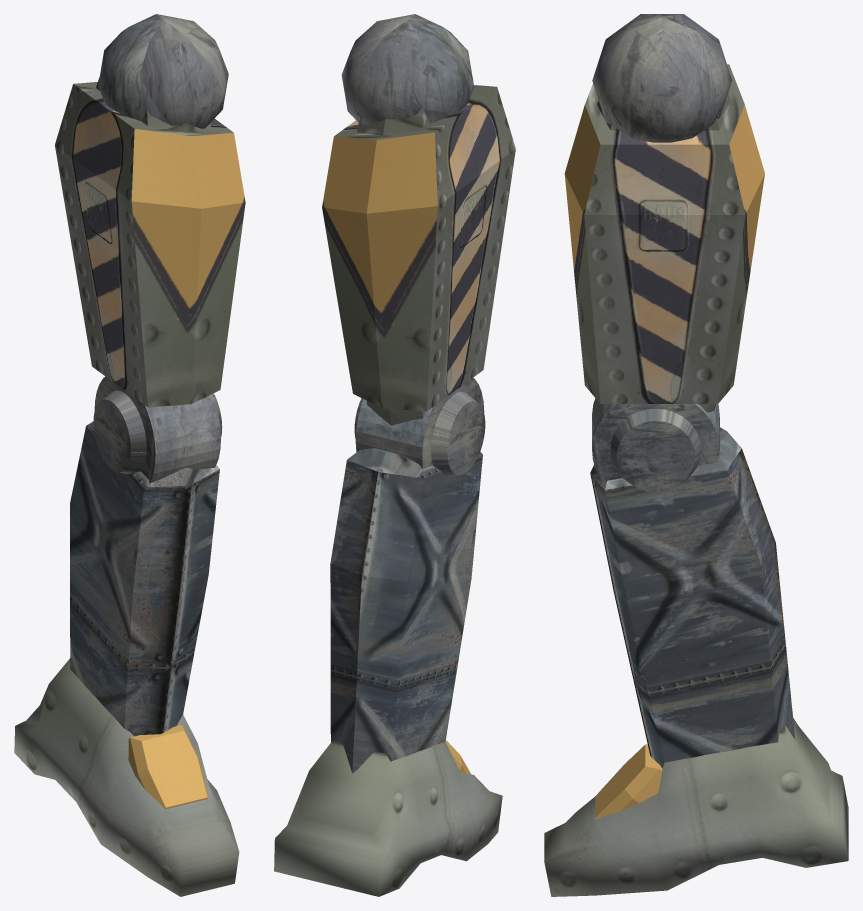
Rendered from robot 4 Right leg.fbx.
3 renders of one model, left to right at view 1: azimuth 30°, elevation 25°; view 2: azimuth 150°, elevation 25°; view 3: azimuth 270°, elevation 25°, orthographic. The views are drawn at different scales.
Visible parts, largest first — view 1: Icosphere, Cylinder.003, Cube.018; view 2: Icosphere, Cylinder.003, Cube.018; view 3: Icosphere, Cylinder.003, Cube.018.
Part boxes in pixels (left/top/right/bottom): Icosphere: left=55, top=14, right=245, bottom=407; Cylinder.003: left=70, top=376, right=222, bottom=736; Cube.018: left=14, top=658, right=239, bottom=896; Icosphere: left=322, top=14, right=515, bottom=425; Cylinder.003: left=330, top=378, right=485, bottom=773; Cube.018: left=274, top=740, right=502, bottom=896; Icosphere: left=564, top=14, right=764, bottom=412; Cylinder.003: left=590, top=398, right=795, bottom=768; Cube.018: left=544, top=717, right=848, bottom=896.
Size of the model in its own units: 115 by 734 by 233.
